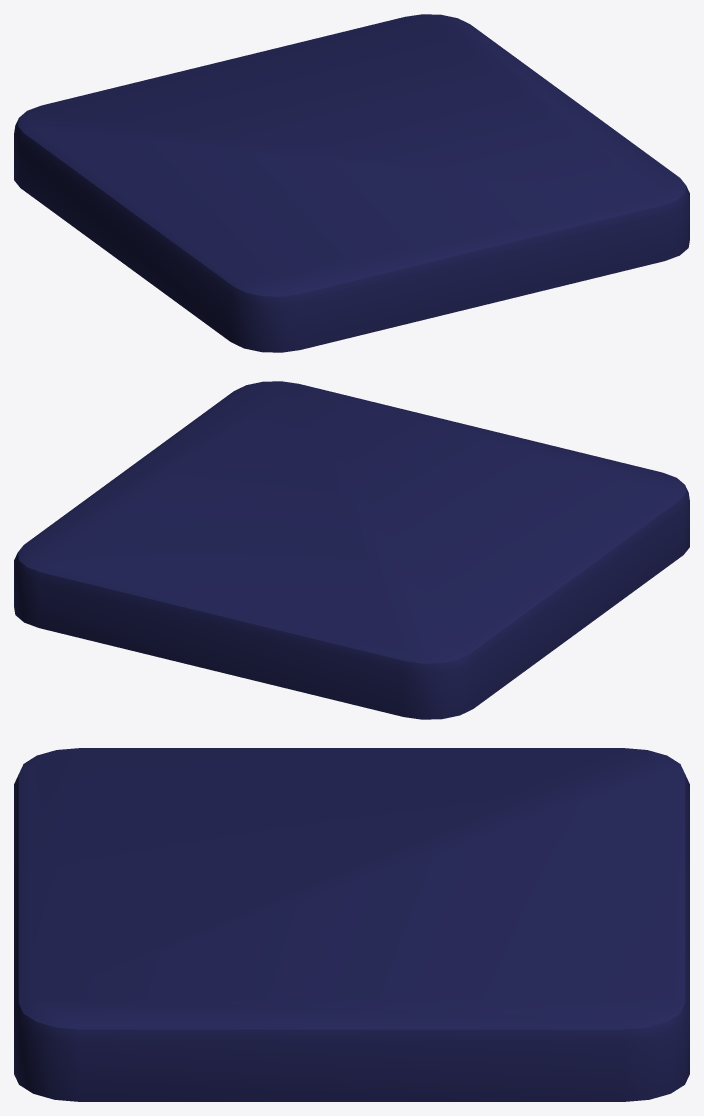
Rendered from Board_Cell.fbx.
3 renders of one model, top to bottom at view 1: azimuth 30°, elevation 25°; view 2: azimuth 150°, elevation 25°; view 3: azimuth 270°, elevation 25°, orthographic. The views are drawn at different scales.
Visible parts, largest first — view 1: Board_Cell; view 2: Board_Cell; view 3: Board_Cell.
Part boxes in pixels (bbox=[...]): Board_Cell: bbox=[14, 14, 689, 352]; Board_Cell: bbox=[14, 381, 689, 719]; Board_Cell: bbox=[14, 748, 689, 1101].
Bounding box in the file's own units: 0.82 × 0.1 × 0.82.
